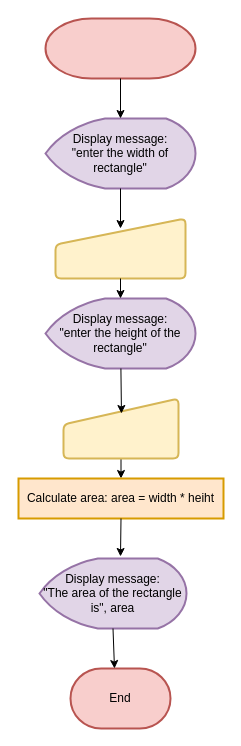
Some shapes in this 241 by 746 pixel diagram are drawn without their labels. Each missing label, with the centre of its shape:
Read height input: pixel 120 428
Read wildth input: pixel 120 248
start: pixel 120 48
